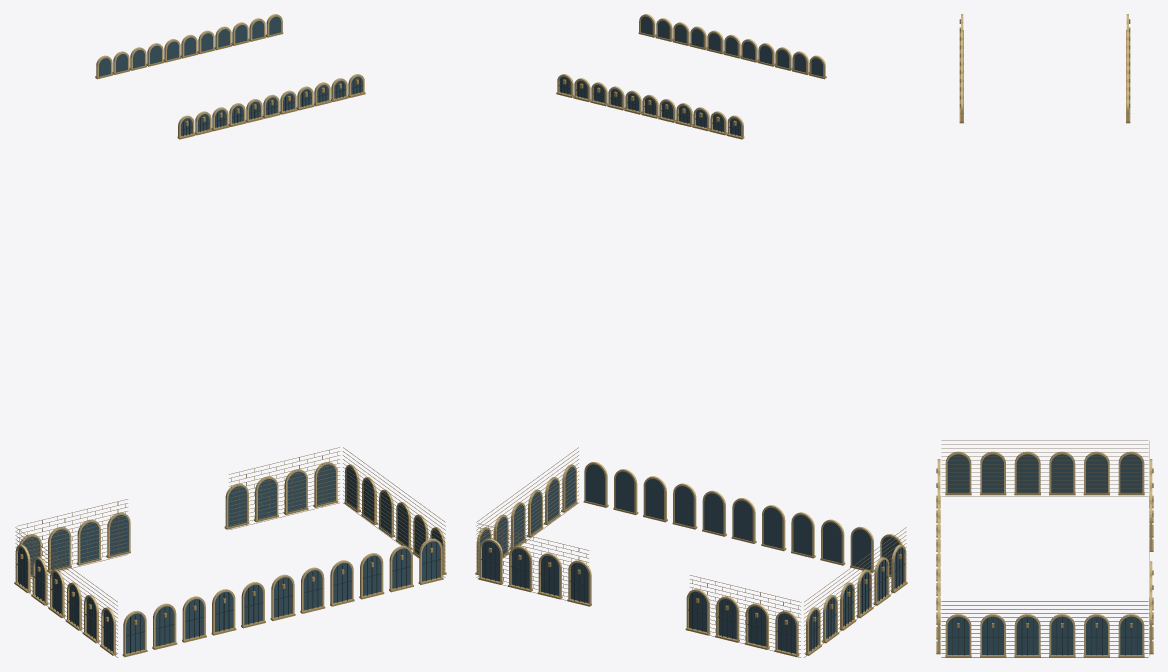
File: KOL_T1_ROYAL__03_Arcades.fbx
3 views of the same model, side by side, from view 1: azimuth 30°, elevation 25°; view 2: azimuth 150°, elevation 25°; view 3: azimuth 270°, elevation 25° (orthographic).
Visible parts, largest first — view 1: KOL_T1_ROYAL__03_Arcades__KOL_T1_Glass, KOL_T1_ROYAL__03_Arcades__KOL_T1_RoyalTrim, KOL_T1_ROYAL__03_Arcades__KOL_T1_RoyalStone, KOL_T1_ROYAL__03_Arcades__KOL_T1_RoyalOchre, KOL_T1_ROYAL__03_Arcades__KOL_T1_Graphite, KOL_T1_ROYAL__03_Arcades__KOL_T1_RoyalTrim.001; view 2: KOL_T1_ROYAL__03_Arcades__KOL_T1_Glass, KOL_T1_ROYAL__03_Arcades__KOL_T1_RoyalTrim, KOL_T1_ROYAL__03_Arcades__KOL_T1_RoyalStone, KOL_T1_ROYAL__03_Arcades__KOL_T1_RoyalOchre, KOL_T1_ROYAL__03_Arcades__KOL_T1_Graphite, KOL_T1_ROYAL__03_Arcades__KOL_T1_RoyalTrim.001; view 3: KOL_T1_ROYAL__03_Arcades__KOL_T1_Glass, KOL_T1_ROYAL__03_Arcades__KOL_T1_RoyalTrim, KOL_T1_ROYAL__03_Arcades__KOL_T1_RoyalStone, KOL_T1_ROYAL__03_Arcades__KOL_T1_RoyalOchre, KOL_T1_ROYAL__03_Arcades__KOL_T1_Graphite.
Boxes of the visible parts, x1,y1,x2,y2 form: KOL_T1_ROYAL__03_Arcades__KOL_T1_Glass: (18,16,442,653); KOL_T1_ROYAL__03_Arcades__KOL_T1_RoyalTrim: (15,14,445,654); KOL_T1_ROYAL__03_Arcades__KOL_T1_RoyalStone: (15,447,445,657); KOL_T1_ROYAL__03_Arcades__KOL_T1_RoyalOchre: (14,32,446,657); KOL_T1_ROYAL__03_Arcades__KOL_T1_Graphite: (16,79,440,653); KOL_T1_ROYAL__03_Arcades__KOL_T1_RoyalTrim.001: (178,82,330,137); KOL_T1_ROYAL__03_Arcades__KOL_T1_Glass: (479,16,903,653); KOL_T1_ROYAL__03_Arcades__KOL_T1_RoyalTrim: (476,14,906,654); KOL_T1_ROYAL__03_Arcades__KOL_T1_RoyalStone: (476,447,906,657); KOL_T1_ROYAL__03_Arcades__KOL_T1_RoyalOchre: (475,32,907,657); KOL_T1_ROYAL__03_Arcades__KOL_T1_Graphite: (481,79,905,653); KOL_T1_ROYAL__03_Arcades__KOL_T1_RoyalTrim.001: (673,22,825,77); KOL_T1_ROYAL__03_Arcades__KOL_T1_Glass: (947,454,1142,654); KOL_T1_ROYAL__03_Arcades__KOL_T1_RoyalTrim: (937,14,1152,655); KOL_T1_ROYAL__03_Arcades__KOL_T1_RoyalStone: (941,440,1149,657); KOL_T1_ROYAL__03_Arcades__KOL_T1_RoyalOchre: (936,19,1153,657); KOL_T1_ROYAL__03_Arcades__KOL_T1_Graphite: (948,618,1141,655).
Size of the model in its own units: 176 by 260 by 98.4.
